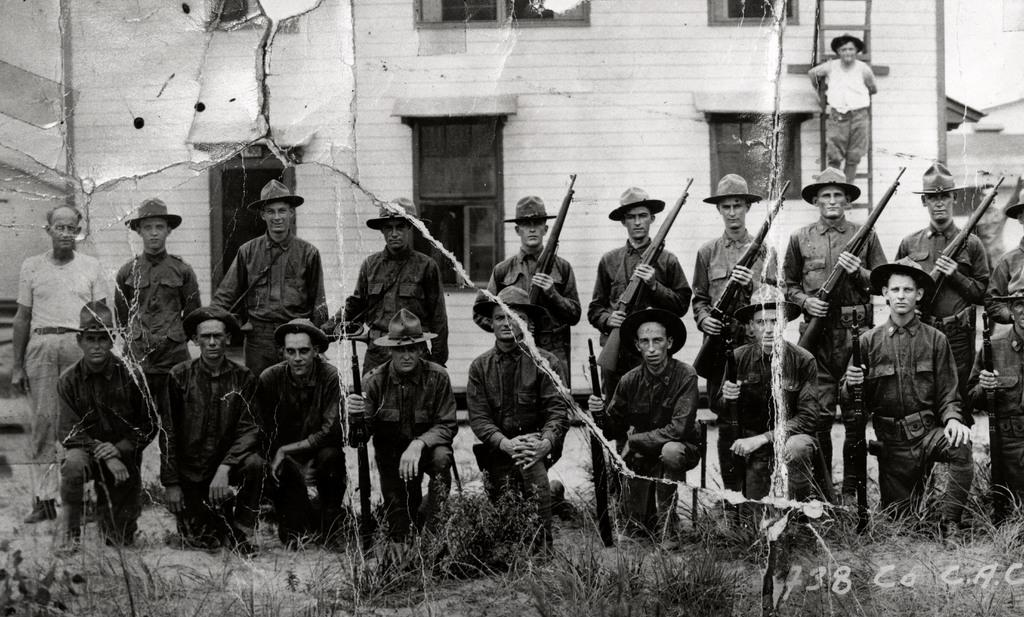Rifle: (792, 175, 923, 359), (596, 176, 699, 374), (695, 177, 795, 379), (821, 311, 890, 534), (924, 172, 1009, 318), (348, 337, 387, 547), (582, 343, 618, 547), (531, 170, 577, 325), (224, 239, 288, 334), (719, 306, 746, 504), (980, 311, 999, 445)
